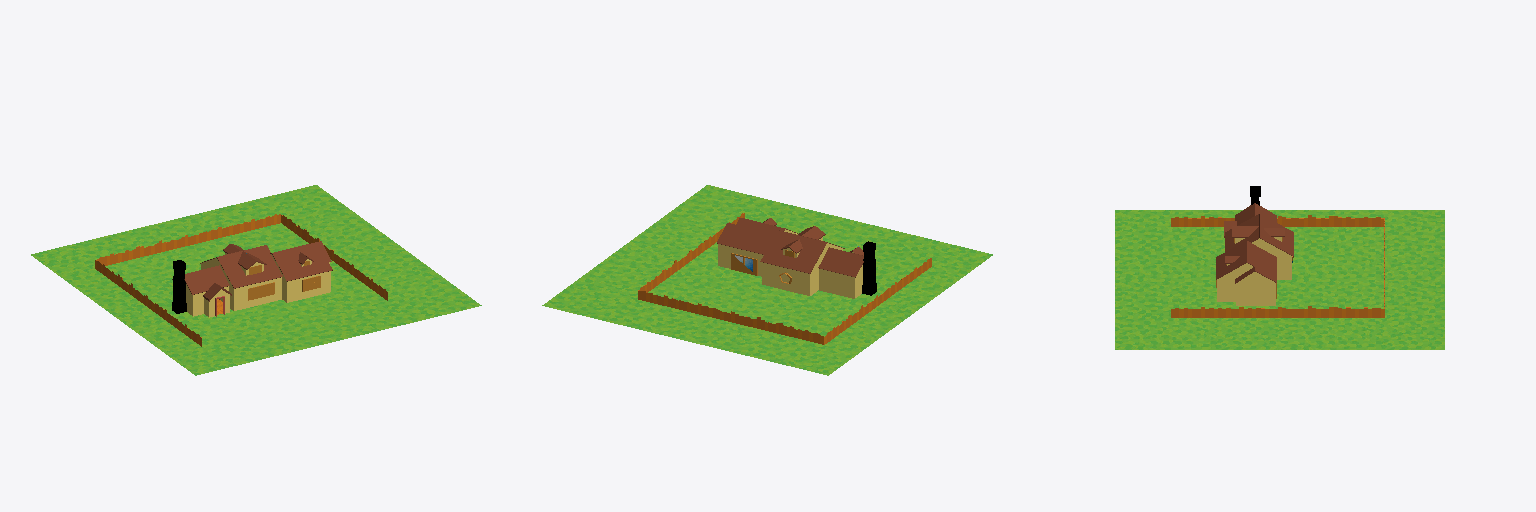
3 views of the same model, side by side, from view 1: azimuth 30°, elevation 25°; view 2: azimuth 150°, elevation 25°; view 3: azimuth 270°, elevation 25° (orthographic).
Visible parts, largest first — view 1: pPlane4, polySurface139 polySurface2, pCube32 polySurface25, pCube32 polySurface15, polySurface2 polySurface297, polySurface2 polySurface298, polySurface9 polySurface102, polySurface6 pCube32, pCube32 polySurface18, pCube36; view 2: pPlane4, polySurface139 polySurface2, pCube32 polySurface26, pCube32 polySurface17, polySurface99, polySurface2 polySurface297, polySurface9 polySurface101, polySurface2 polySurface298, polySurface9 polySurface100, pCube36; view 3: pPlane4, polySurface2 polySurface298, polySurface2 polySurface297, pCube32 polySurface21, pCube32 polySurface17, pCube32 polySurface26, pCube32 polySurface12, polySurface296, pCube32 polySurface25.
Boxes of the visible parts, <box> form: pPlane4: <box>31,185,481,375</box>; polySurface139 polySurface2: <box>96,214,280,265</box>; pCube32 polySurface25: <box>272,242,332,281</box>; pCube32 polySurface15: <box>217,245,282,288</box>; polySurface2 polySurface297: <box>95,260,201,346</box>; polySurface2 polySurface298: <box>281,215,387,300</box>; polySurface9 polySurface102: <box>184,265,229,294</box>; polySurface6 pCube32: <box>234,277,281,310</box>; pCube32 polySurface18: <box>287,271,330,302</box>; pCube36: <box>172,260,186,313</box>; pPlane4: <box>542,185,992,375</box>; polySurface139 polySurface2: <box>638,290,823,344</box>; pCube32 polySurface26: <box>760,230,827,273</box>; pCube32 polySurface17: <box>717,218,785,254</box>; polySurface99: <box>762,262,810,295</box>; polySurface2 polySurface297: <box>824,258,931,344</box>; polySurface9 polySurface101: <box>818,248,863,277</box>; polySurface2 polySurface298: <box>639,213,744,292</box>; polySurface9 polySurface100: <box>819,269,853,298</box>; pCube36: <box>862,241,876,295</box>; pPlane4: <box>1115,210,1444,349</box>; polySurface2 polySurface298: <box>1171,306,1384,317</box>; polySurface2 polySurface297: <box>1171,215,1384,226</box>; pCube32 polySurface21: <box>1236,272,1275,305</box>; pCube32 polySurface17: <box>1247,241,1276,282</box>; pCube32 polySurface26: <box>1259,214,1293,256</box>; pCube32 polySurface12: <box>1217,263,1252,301</box>; polySurface296: <box>1252,238,1291,279</box>; pCube32 polySurface25: <box>1216,240,1246,279</box>.
Size of the model in its own units: 23.43 by 3.81 by 23.43.
Materials: 23 (19 with a texture image).